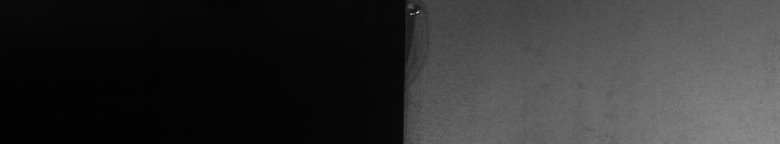hb: (416, 5, 429, 46)
